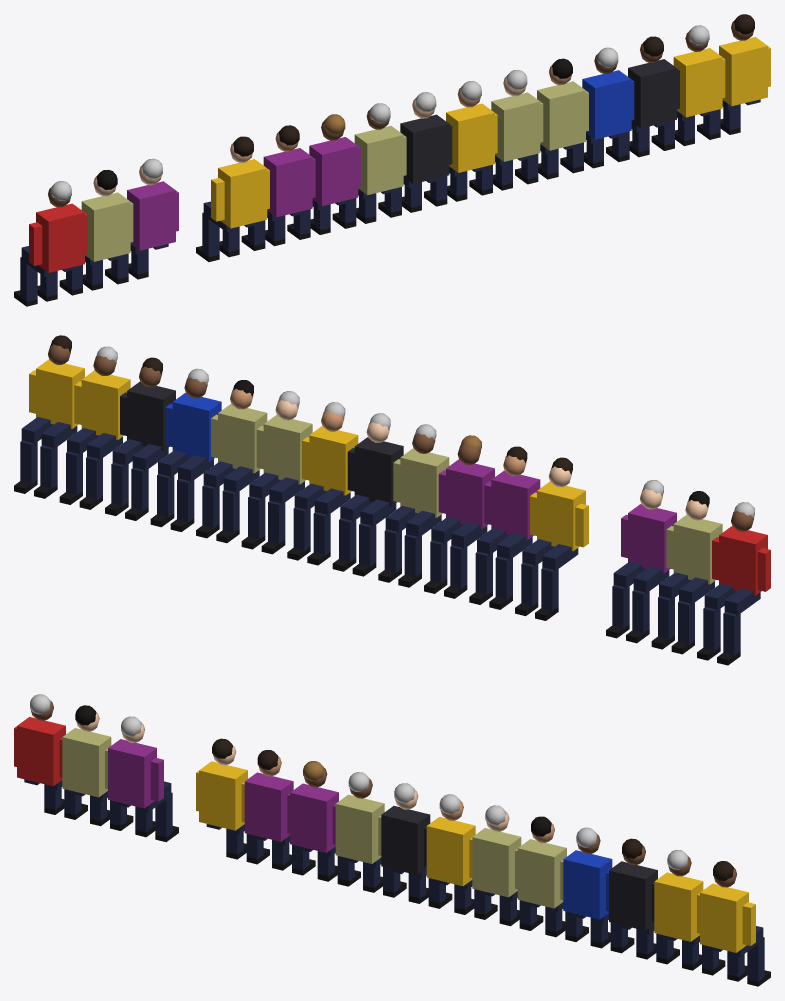
File: Fila3.obj
The picture shows the model from 3 angles, top to bottom: view 1: azimuth 30°, elevation 25°; view 2: azimuth 150°, elevation 25°; view 3: azimuth 330°, elevation 25°; orthographic projection.
Parts seen in each view (by area): view 1: Fila3; view 2: Fila3; view 3: Fila3.
Boxes of the visible parts, left/top/right/bottom form: Fila3: left=14, top=14, right=770, bottom=306; Fila3: left=14, top=335, right=770, bottom=665; Fila3: left=14, top=694, right=770, bottom=986.
Bounding box in the file's own units: 8.09 × 1.42 × 0.7127.
1 material, 1 textured.
